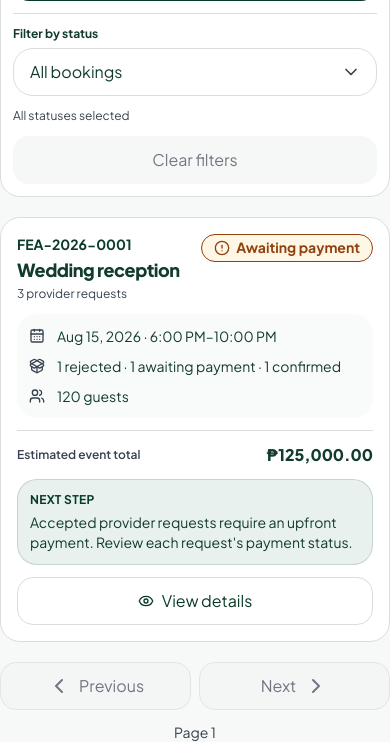
Test: customer booking history and details › loads owned details and shows bounded event, location, service, and provider-request data
(page scrolled)
Click the button with aria-label "View booking FEA-2026-0001" at (195, 601), box [17,577,373,625]
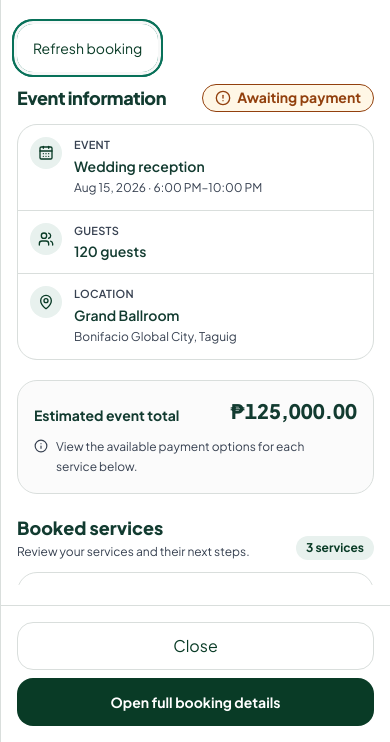
Now the element "Event information" is shown, box [17,84,374,360]
Now the element named "Status: Awaiting payment" is shown, box [202,84,374,112]
Now the text "Grand Ballroom" is shown, box [74,306,179,324]
